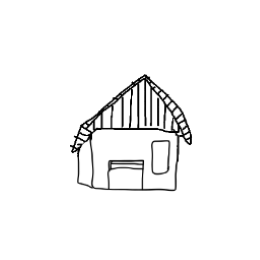door: (103, 155, 149, 196)
open_window: (149, 137, 172, 179)
roof: (74, 72, 199, 146)
small_house: (2, 1, 260, 260)
wall: (85, 123, 182, 197)
